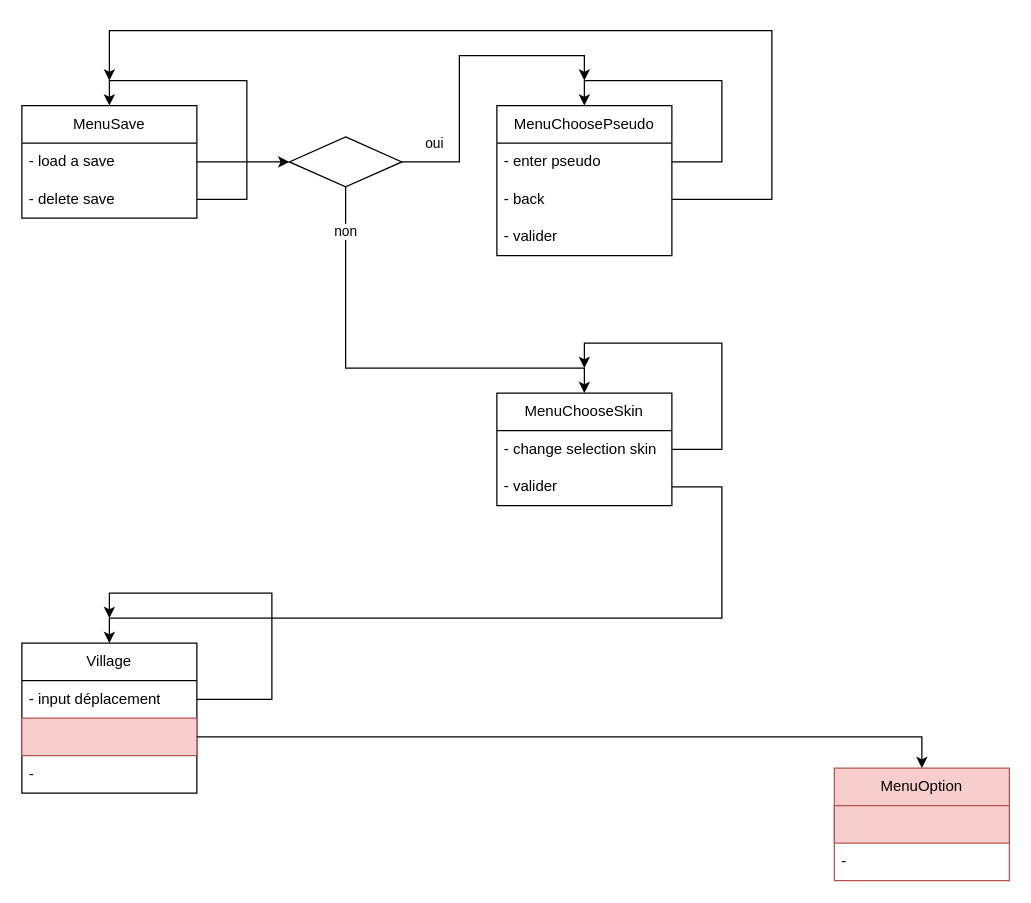
Some shapes in this 1031 by 903 pixel diagram are drawn without their labels. Here are the shapes that lost their labels. From the top down, the centre of each, then its label:
At point 345,161: "new save ?".
At point 109,736: "- open menu option".
At point 921,823: "- edit twitch params".
